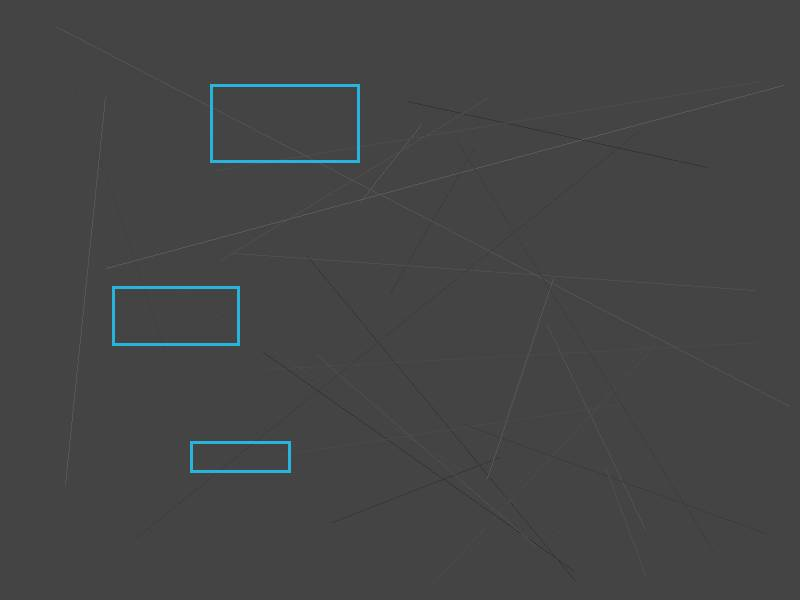D10: (210, 84, 359, 162), (190, 441, 290, 472)
D40: (112, 286, 239, 345)
